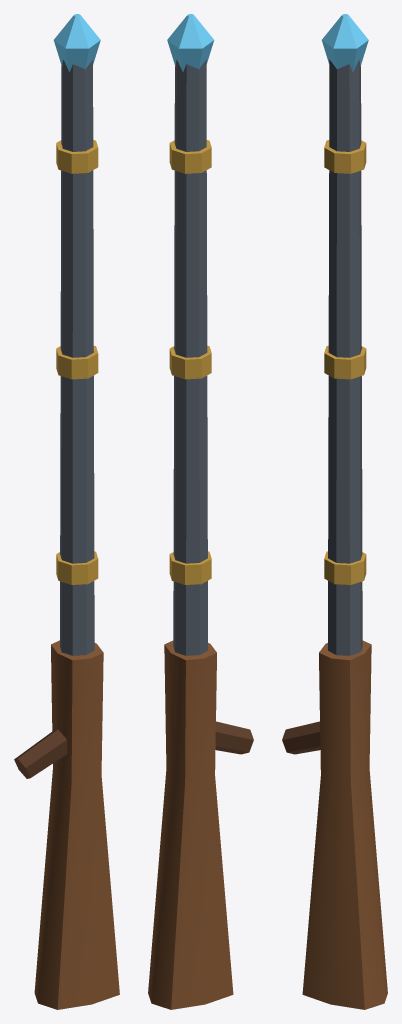
File: ThunderRod.fbx
3 views of the same model, side by side, from view 1: azimuth 30°, elevation 25°; view 2: azimuth 210°, elevation 25°; view 3: azimuth 330°, elevation 25° (orthographic).
Visible parts, largest first — view 1: ThunderRod; view 2: ThunderRod; view 3: ThunderRod.
Boxes of the visible parts, x1=… form: ThunderRod: x1=14, y1=14, x2=119, y2=1009; ThunderRod: x1=148, y1=14, x2=253, y2=1009; ThunderRod: x1=282, y1=14, x2=387, y2=1009.
Bounding box in the file's own units: 0.1259 × 1.19 × 0.064.
